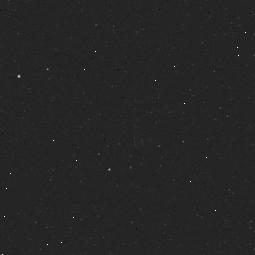debris: (133, 124, 157, 150)
